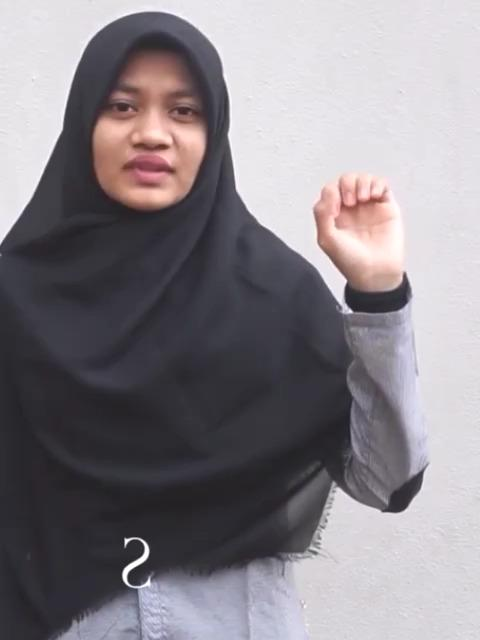S: (312, 170, 408, 284)
